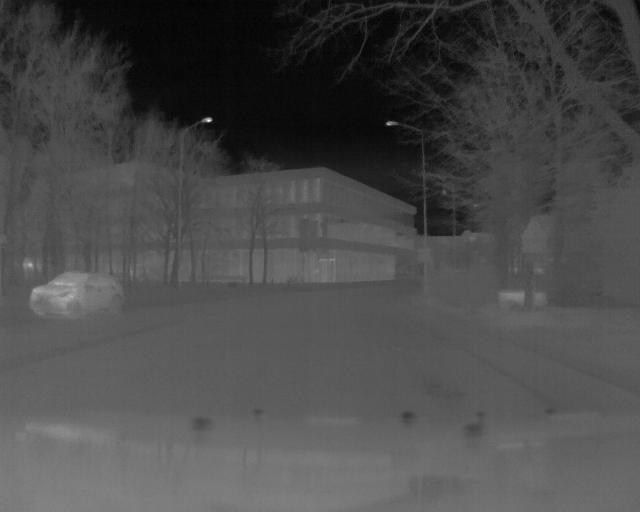car: (27, 271, 124, 318)
